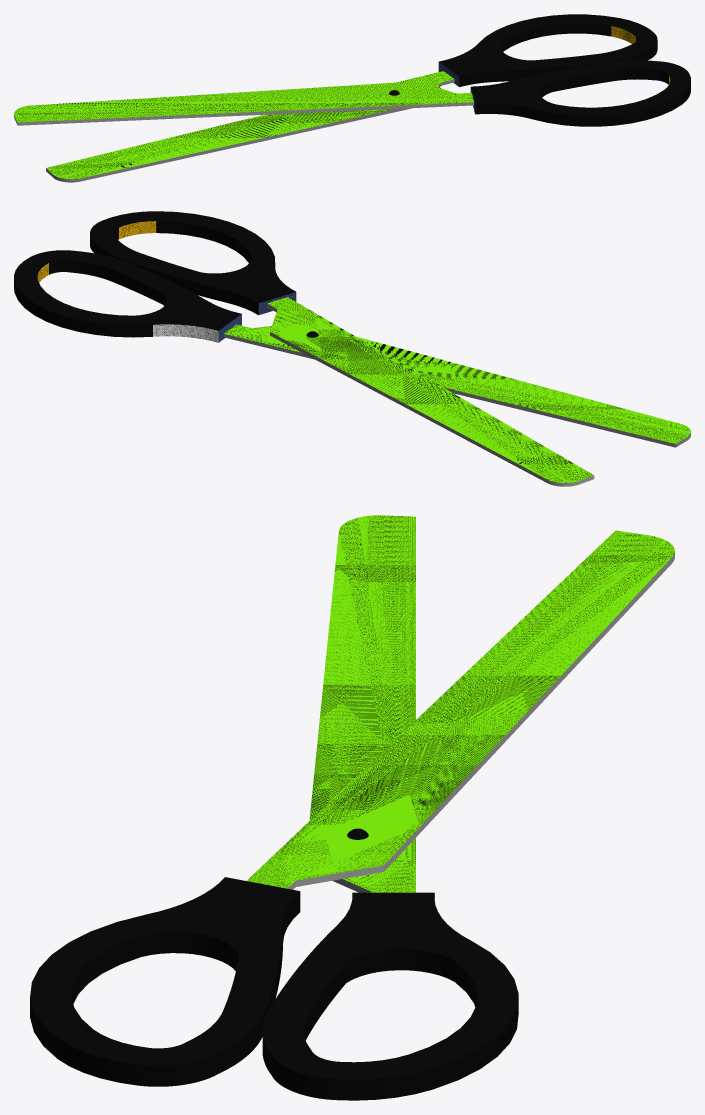
File: scissors_04_origin_gt_2.dae
The picture shows the model from 3 angles, top to bottom: view 1: azimuth 30°, elevation 25°; view 2: azimuth 150°, elevation 25°; view 3: azimuth 270°, elevation 25°; orthographic projection. The views are drawn at different scales.
Visible parts, largest first — view 1: scissor (×4), scissor_1 (×4); view 2: scissor (×5), scissor_1 (×5); view 3: scissor (×4), scissor_1 (×3).
Part boxes in pixels (x1,y1,x2,y2): scissor (×4): (14, 60, 690, 126); scissor_1 (×4): (46, 14, 657, 182); scissor (×5): (90, 211, 594, 486); scissor_1 (×5): (14, 250, 690, 447); scissor (×4): (30, 530, 674, 1086); scissor_1 (×3): (262, 515, 518, 1100).
Bounding box in the file's own units: 9.29 × 4.39 × 0.165.
